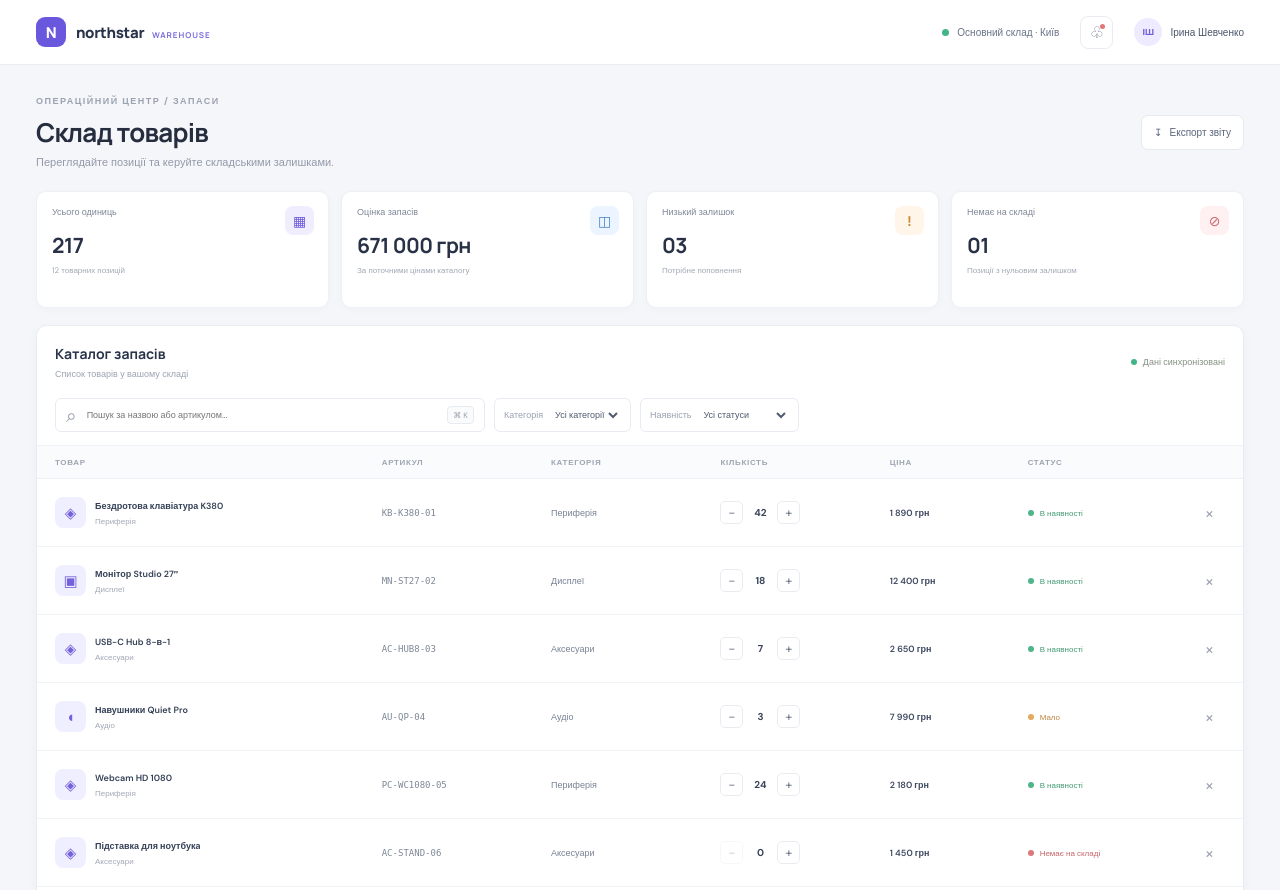
Test: warehouse inventory workflow › updates quantity through the mocked API
Expected: the text "Бездротова клавіатура K380" is shown, [95,500,223,512]
Click the button named "Збільшити Бездротова клавіатура K380": (789, 512) [777,501,800,524]
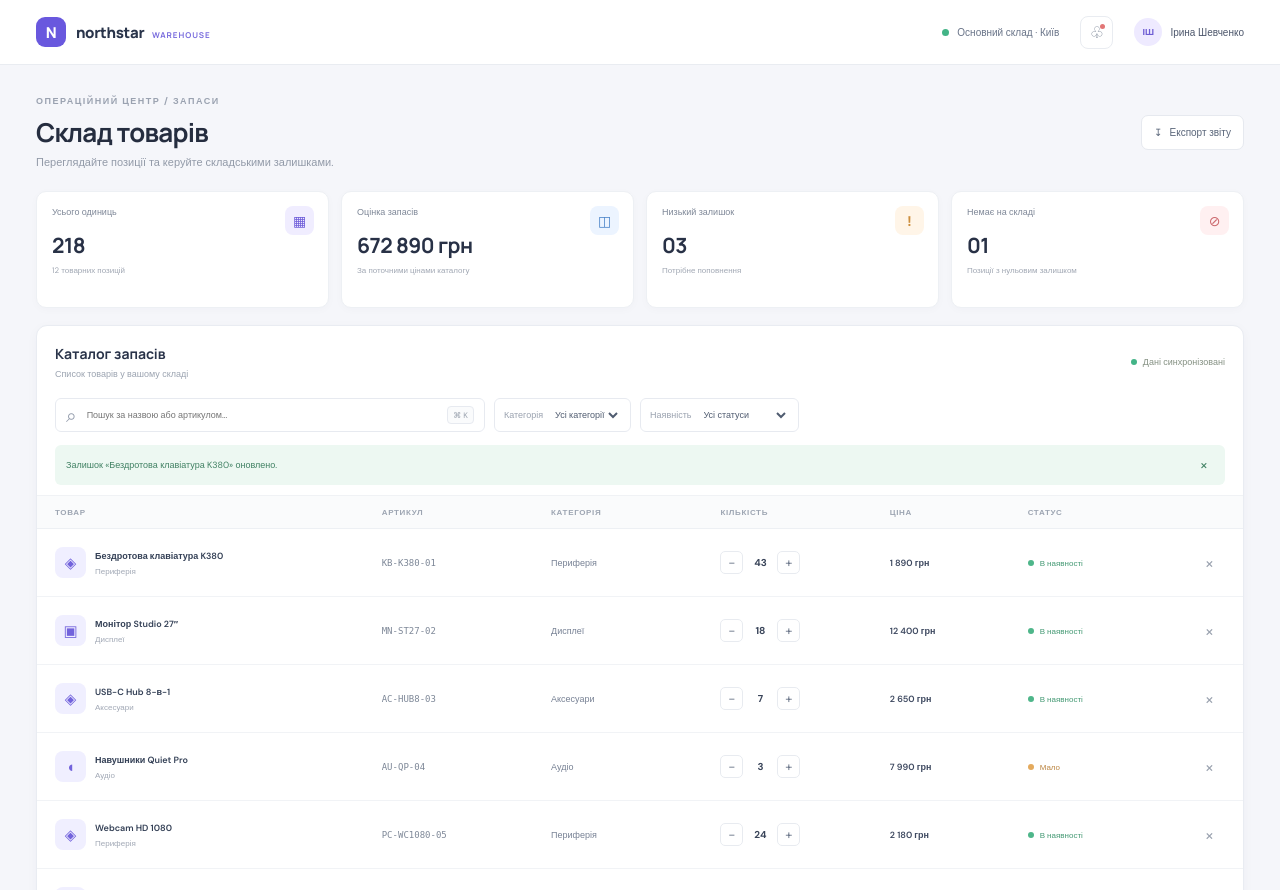
Now the text named "Залишок Бездротова клавіатура K380" reads "43", box [754,556,767,569]
Now the message shows "оновлено", box [66,459,277,471]
